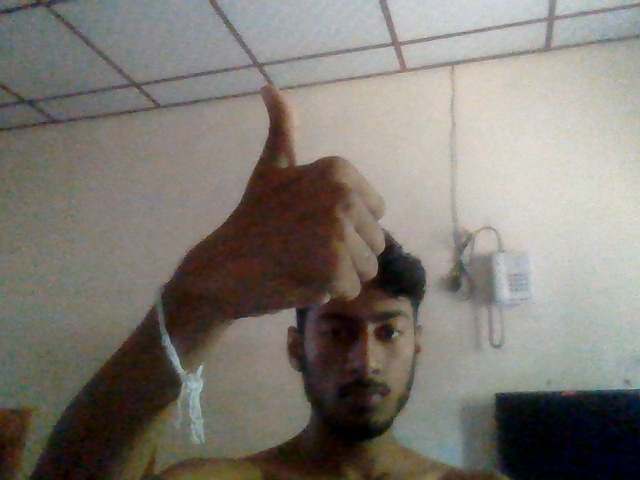ThumbsUp: (222, 85, 387, 315)
